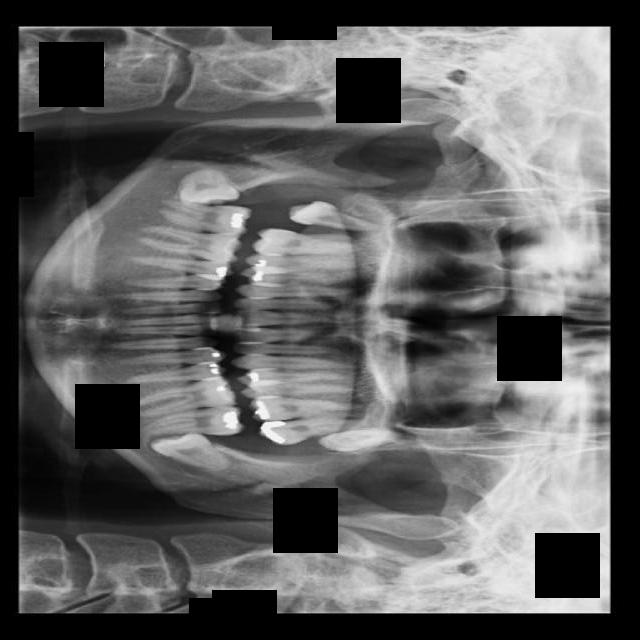52: (194, 375, 235, 410), (206, 403, 245, 438), (211, 206, 249, 235), (235, 366, 279, 391), (248, 396, 287, 421), (239, 267, 283, 288), (258, 421, 296, 445), (191, 359, 225, 383), (199, 260, 232, 281), (246, 254, 282, 273), (191, 348, 224, 365)
73: (10, 624, 20, 634)
BioHorizons Implant: (258, 416, 378, 446)
BioLife Implant: (318, 421, 400, 457)
Biomet 3i Implant: (149, 420, 235, 478)
Blue Sky Bio Implant: (144, 407, 243, 436)
Caries: (288, 199, 392, 236)
Implant: (156, 200, 250, 236)
Keystone Dental Implant: (176, 164, 239, 211)
